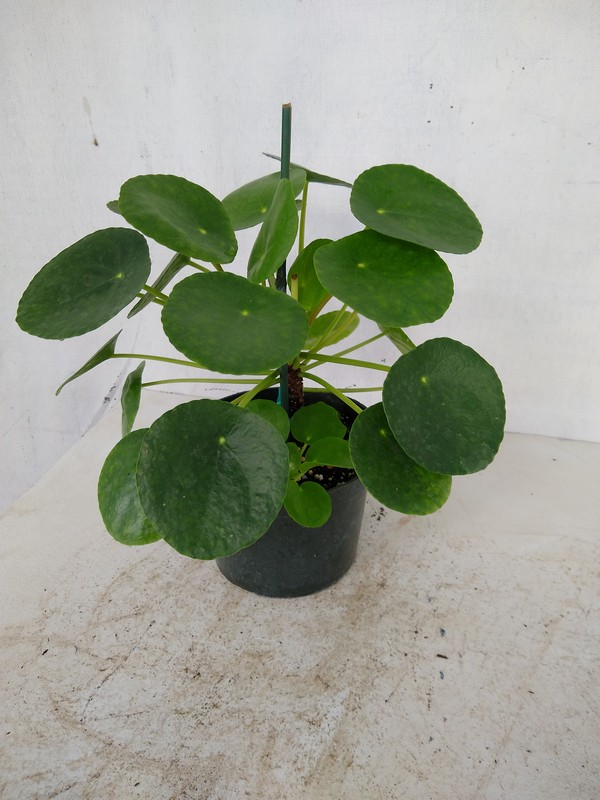plant: (15, 150, 512, 563)
pot: (198, 386, 372, 599)
